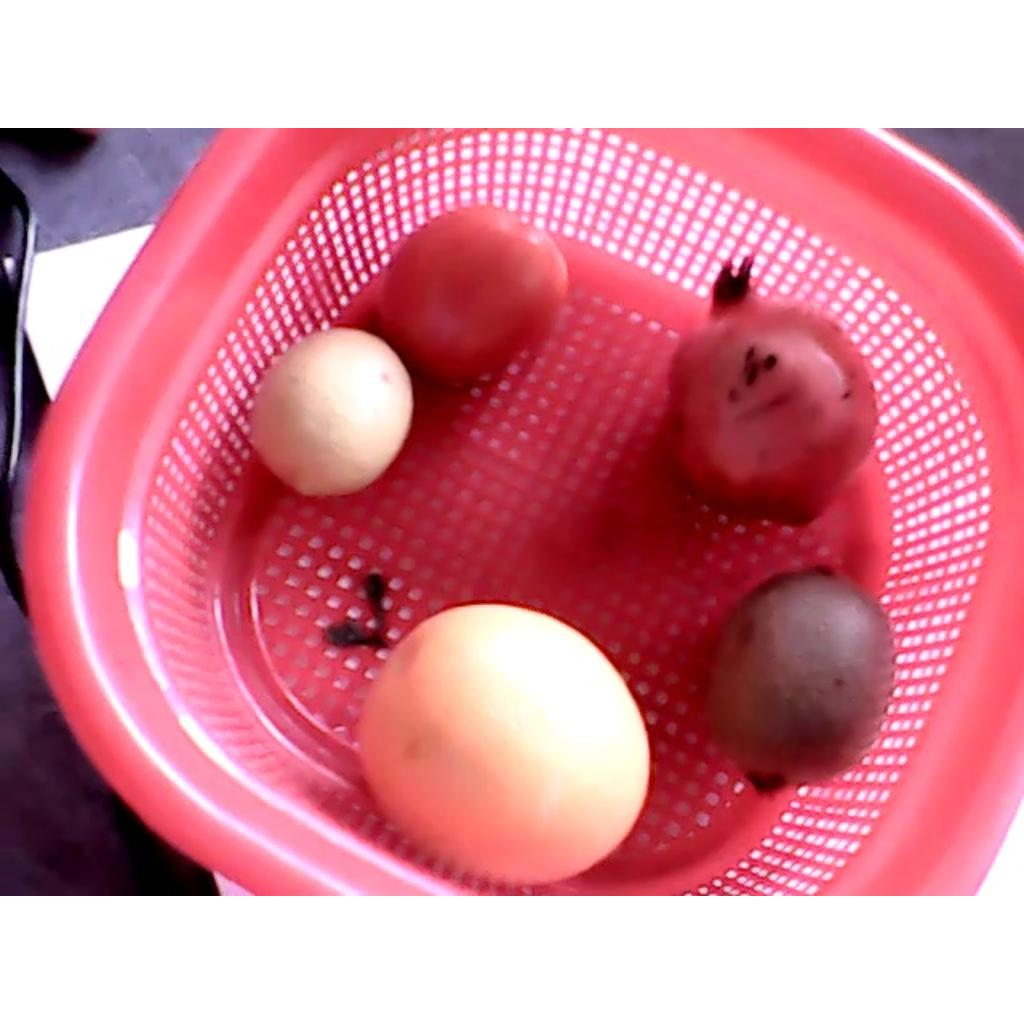kiwi: (698, 562, 893, 795)
lemon: (253, 330, 411, 498)
orange: (324, 574, 649, 886)
pomegranate: (665, 257, 876, 529)
tomato: (374, 203, 569, 389)
